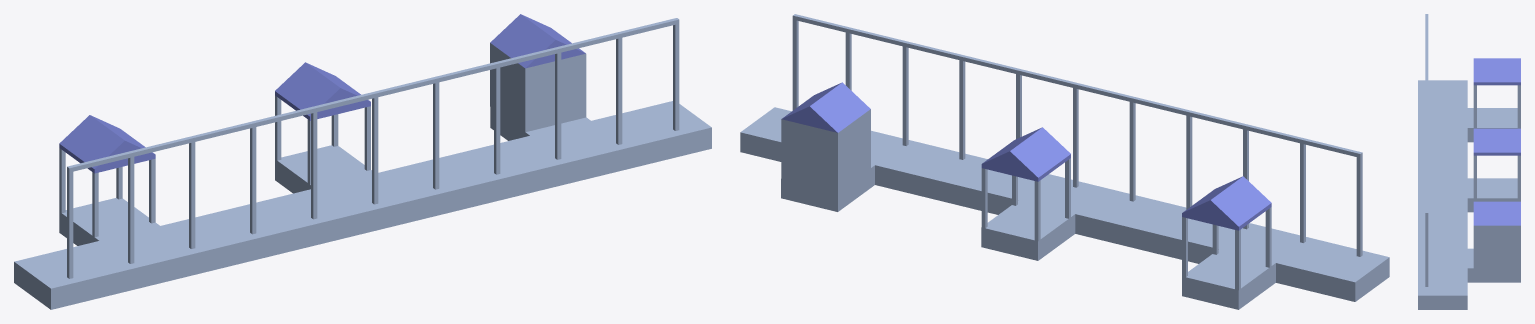
The model's file is Water_Intake.glb.
3 renders of one model, left to right at view 1: azimuth 30°, elevation 25°; view 2: azimuth 150°, elevation 25°; view 3: azimuth 270°, elevation 25°, orthographic. The views are drawn at different scales.
Parts seen in each view (by area): view 1: Floor1; view 2: Floor1; view 3: Floor1.
Part boxes in pixels (x1,y1,x2,y2): Floor1: [14, 14, 711, 309]; Floor1: [740, 14, 1389, 309]; Floor1: [1418, 14, 1520, 309].
Bounding box in the file's own units: 32.5 × 6.2 × 6.55.
